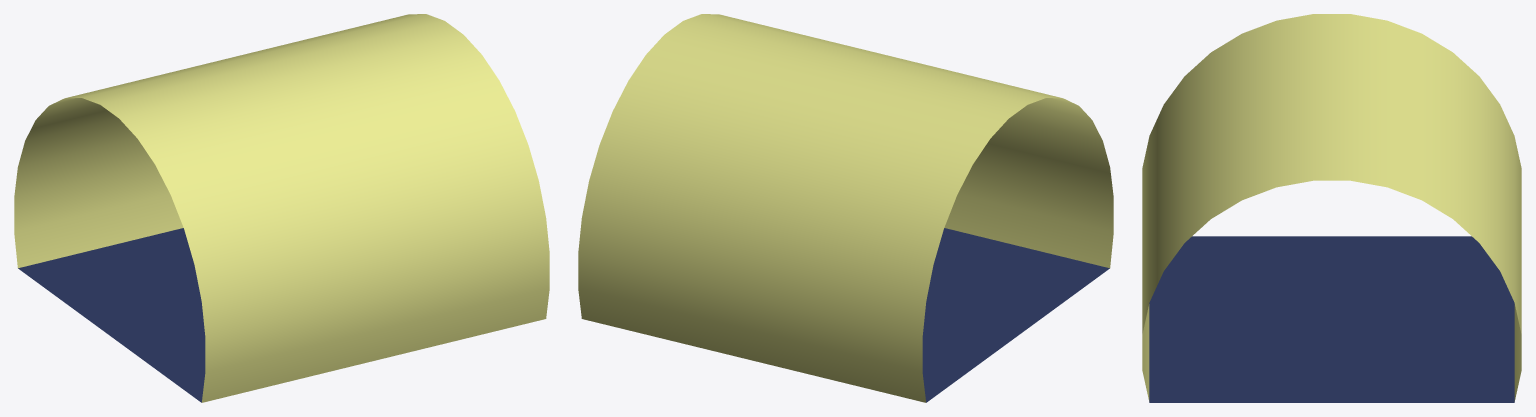
File: Тунель 3 (mid).fbx
3 renders of one model, left to right at view 1: azimuth 30°, elevation 25°; view 2: azimuth 150°, elevation 25°; view 3: azimuth 270°, elevation 25°, orthographic.
Parts seen in each view (by area): view 1: Mid; view 2: Mid; view 3: Mid.
Boxes of the visible parts, x1,y1,x2,y2 form: Mid: (14,14,549,402); Mid: (578,14,1113,402); Mid: (1142,14,1521,402).
Size of the model in its own units: 1500 by 932 by 1443.
